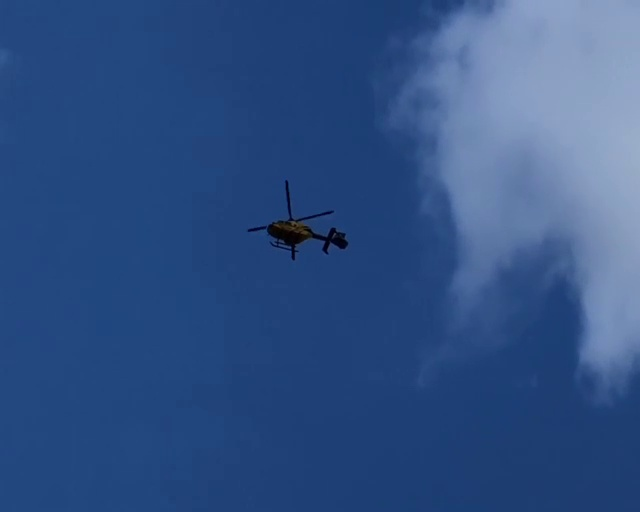HELICOPTER: (247, 179, 348, 261)
